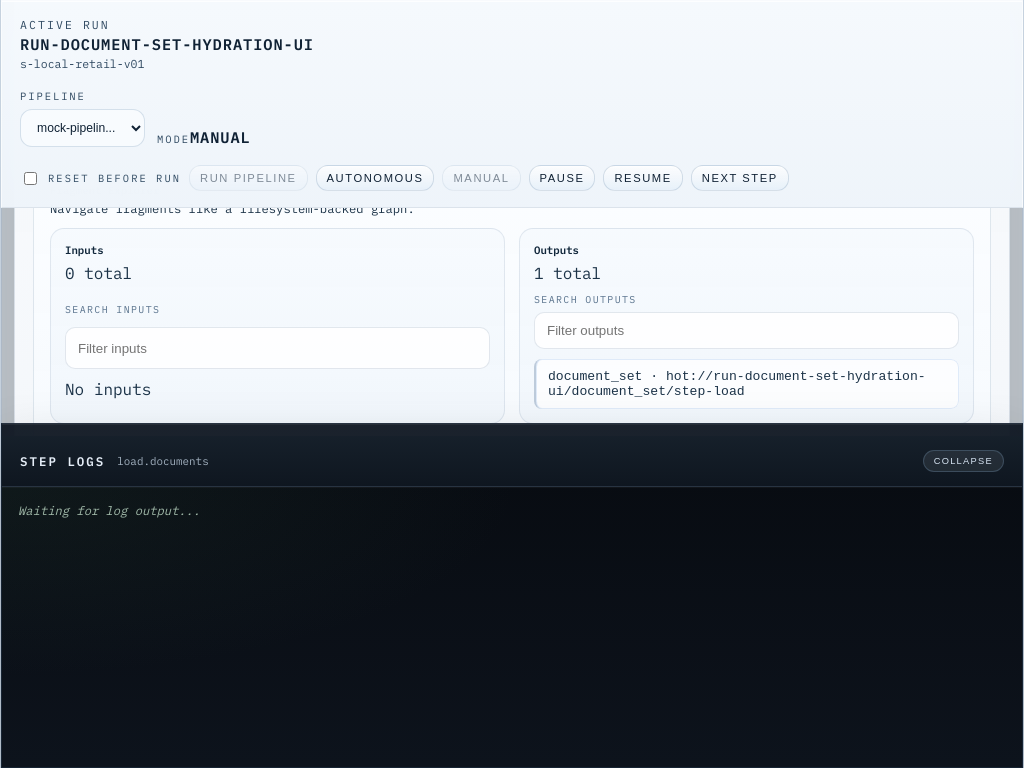
Test: document_set drill fetches inspection subgraph when summary inspection only exposes subgraph_ref
(page scrolled)
Click the 7th button: (748, 384) x1=548 y1=369 x2=947 y2=399
(page scrolled)
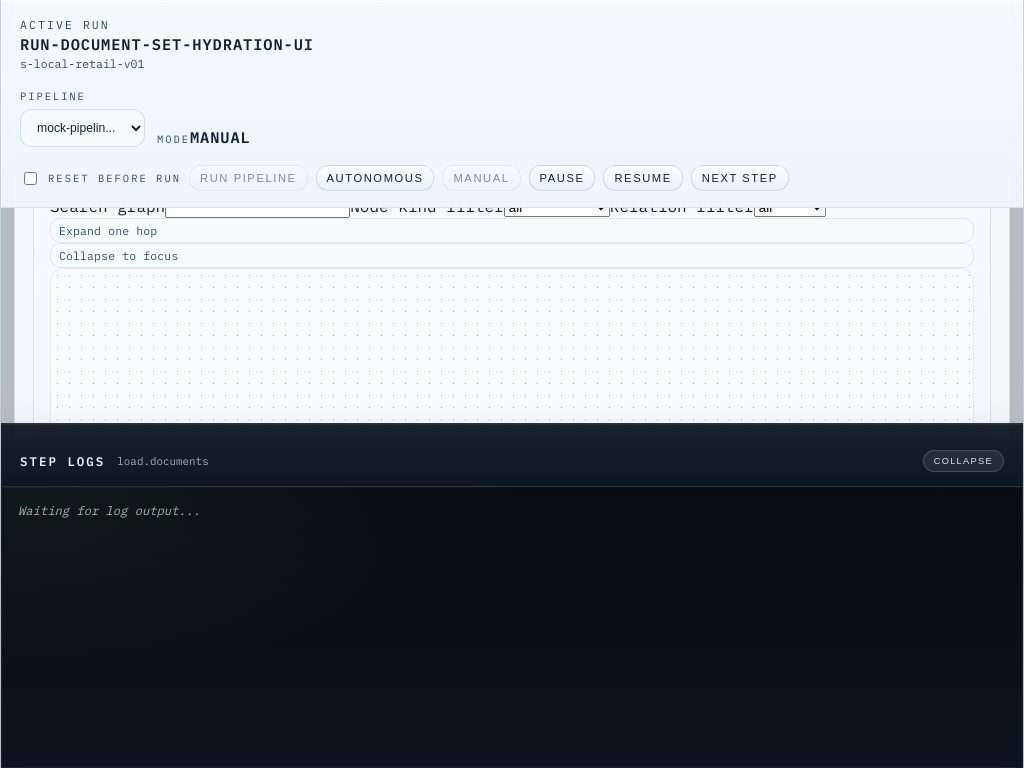
Result: the element with test id "run-fragment-graph-panel" is shown at x1=50 y1=182 x2=974 y2=588
